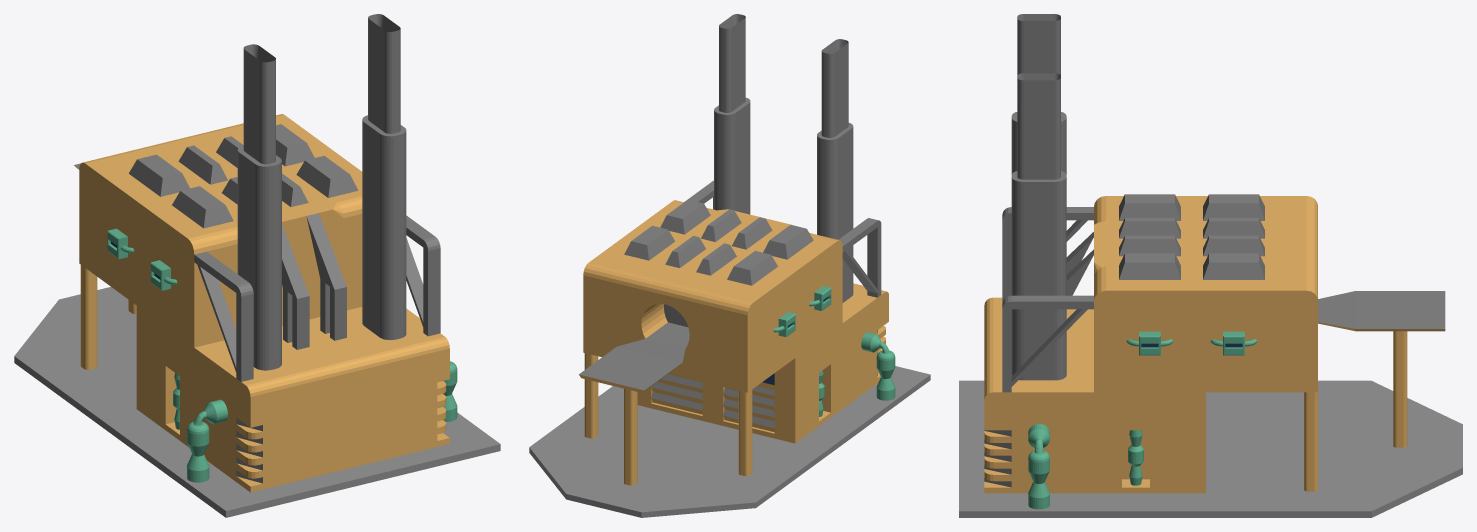
Rendered from Zavod.fbx.
3 views of the same model, side by side, from view 1: azimuth 30°, elevation 25°; view 2: azimuth 150°, elevation 25°; view 3: azimuth 270°, elevation 25° (orthographic). The views are drawn at different scales.
Parts seen in each view (by area): view 1: Завод, Фундамент, ТрубаП, ТрубаЛ, Завод.001, ВоднаяТрубаЛ, КолоннаЛ, Завод.002, ВоднаяТрубаП; view 2: Завод, Фундамент, Завод.001, ТрубаЛ, ТрубаП, КолоннаЦ, КолоннаЛ, ВоднаяТрубаЛ, КолоннаП, Завод.002; view 3: Завод, Фундамент, ТрубаП, Завод.001, ТрубаЛ, КолоннаЦ, ВоднаяТрубаП, КолоннаП, Завод.002.
Boxes of the visible parts, <box> form: Завод: <box>74,114,449,492</box>; Фундамент: <box>14,287,500,517</box>; ТрубаП: <box>362,14,406,340</box>; ТрубаЛ: <box>237,44,281,370</box>; Завод.001: <box>129,124,358,228</box>; ВоднаяТрубаЛ: <box>187,399,227,482</box>; КолоннаЛ: <box>80,265,97,369</box>; Завод.002: <box>107,228,177,290</box>; ВоднаяТрубаП: <box>443,361,457,421</box>; Завод: <box>579,180,888,443</box>; Фундамент: <box>529,366,930,517</box>; Завод.001: <box>624,199,813,285</box>; ТрубаЛ: <box>817,39,853,302</box>; ТрубаП: <box>714,14,750,214</box>; КолоннаЦ: <box>624,388,637,485</box>; КолоннаЛ: <box>738,390,752,476</box>; ВоднаяТрубаЛ: <box>861,332,895,400</box>; КолоннаП: <box>584,353,598,438</box>; Завод.002: <box>773,286,831,336</box>; Завод: <box>984,196,1445,493</box>; Фундамент: <box>959,380,1462,517</box>; ТрубаП: <box>1011,73,1066,380</box>; Завод.001: <box>1119,194,1264,279</box>; ТрубаЛ: <box>1011,14,1066,174</box>; КолоннаЦ: <box>1393,331,1407,447</box>; ВоднаяТрубаП: <box>1028,423,1049,509</box>; КолоннаП: <box>1304,392,1317,491</box>; Завод.002: <box>1126,331,1257,355</box>.
Size of the model in its own units: 2820 by 4085 by 4600.
